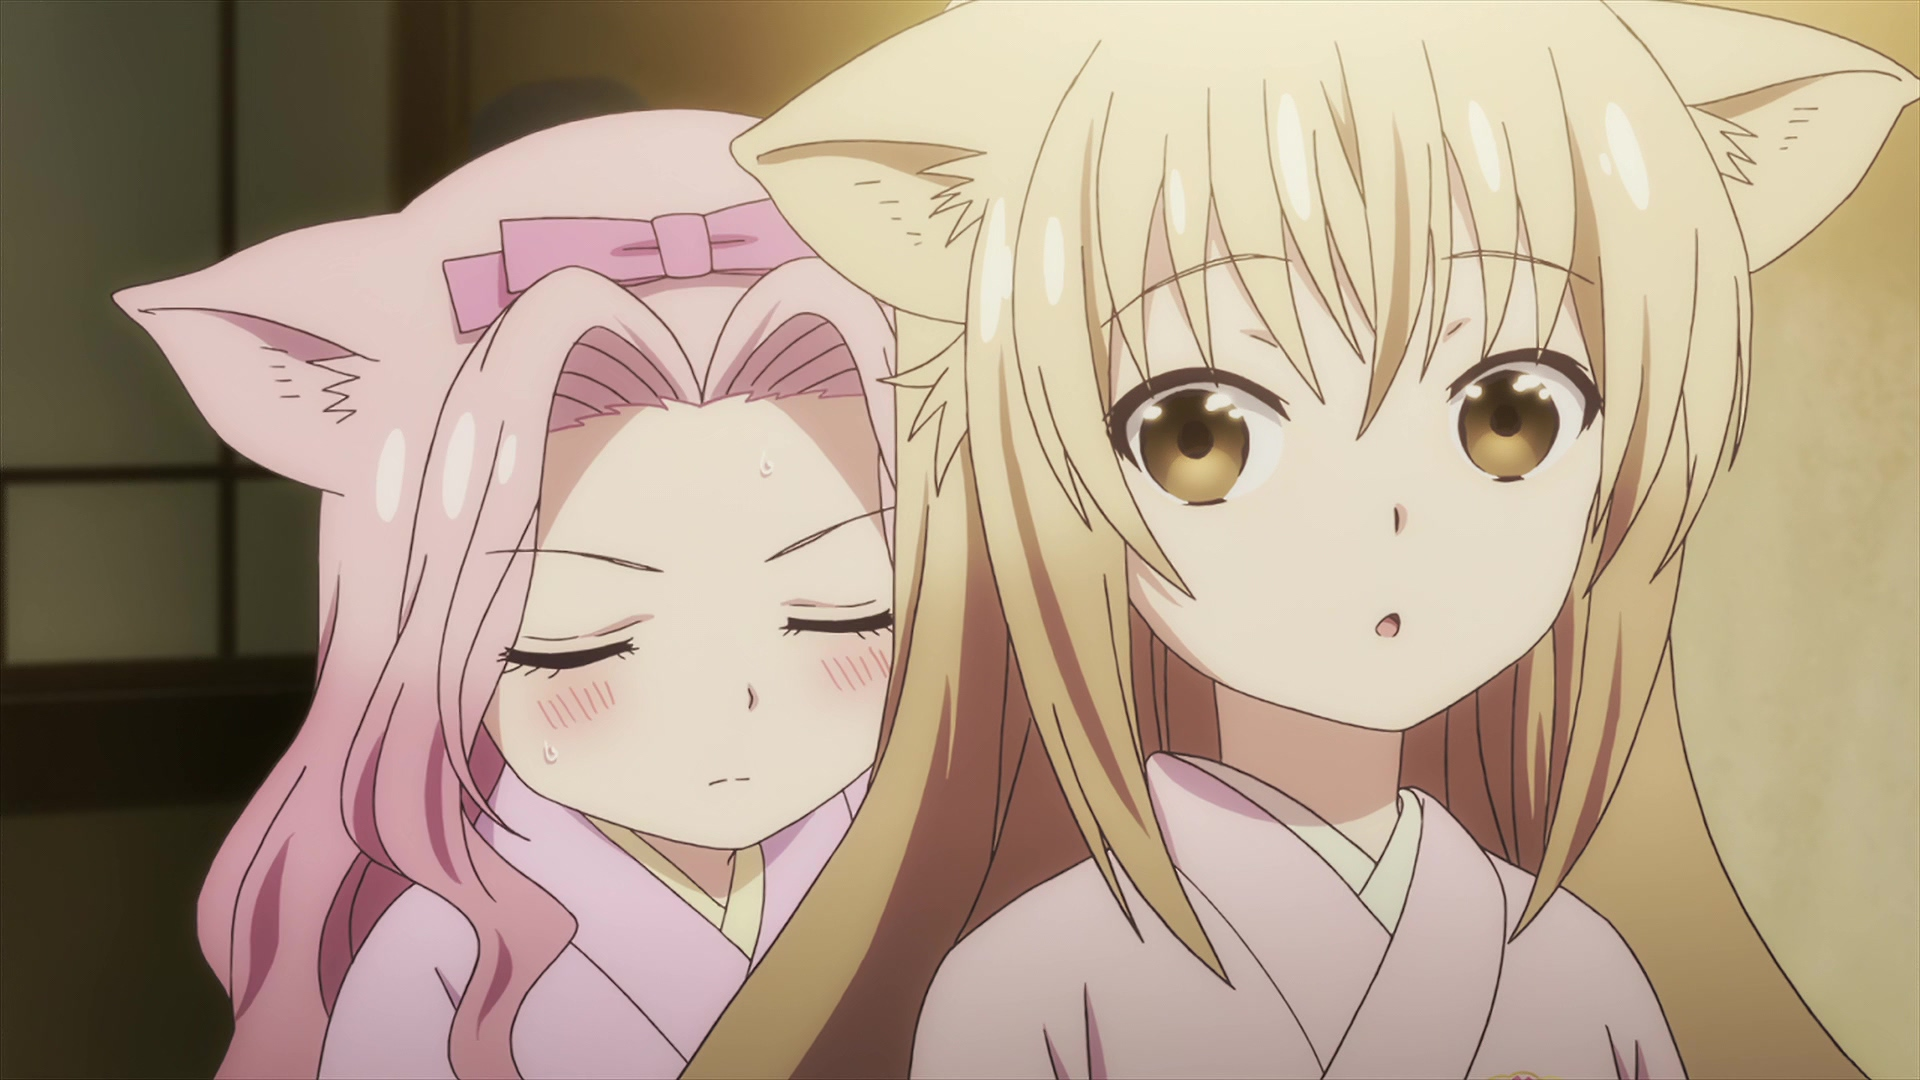柚: (682, 1, 1920, 1080)
莲: (112, 108, 897, 1080)
